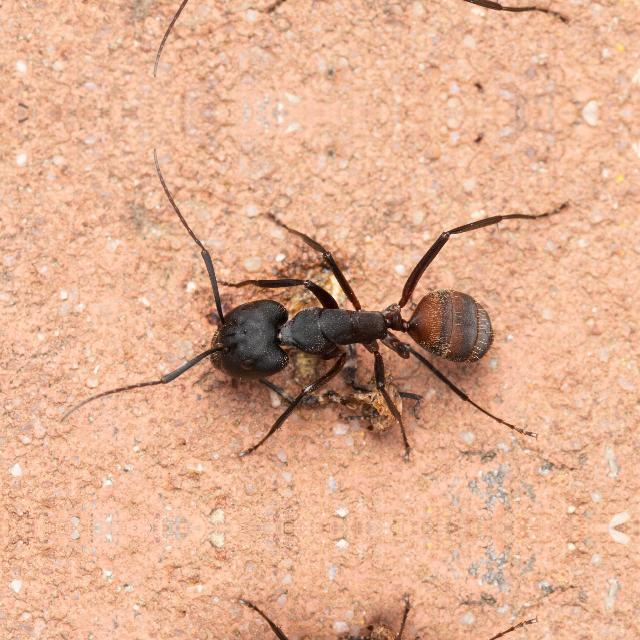Camponotus: (130, 238, 548, 426)
